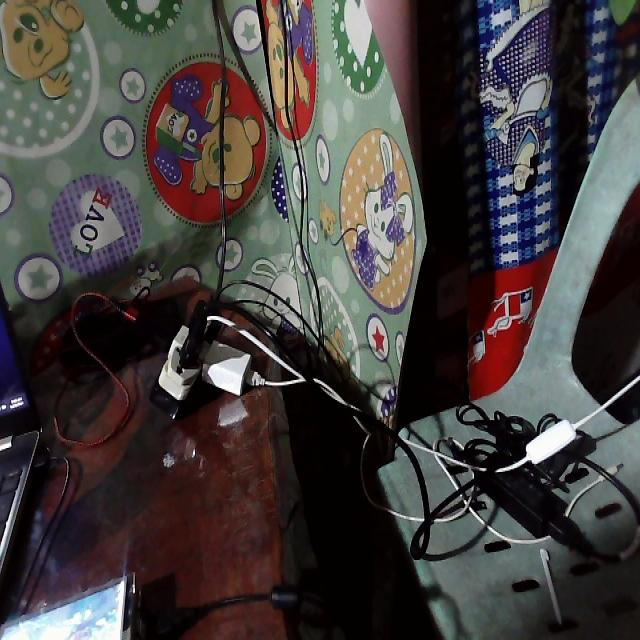-: (67, 285, 275, 423)
